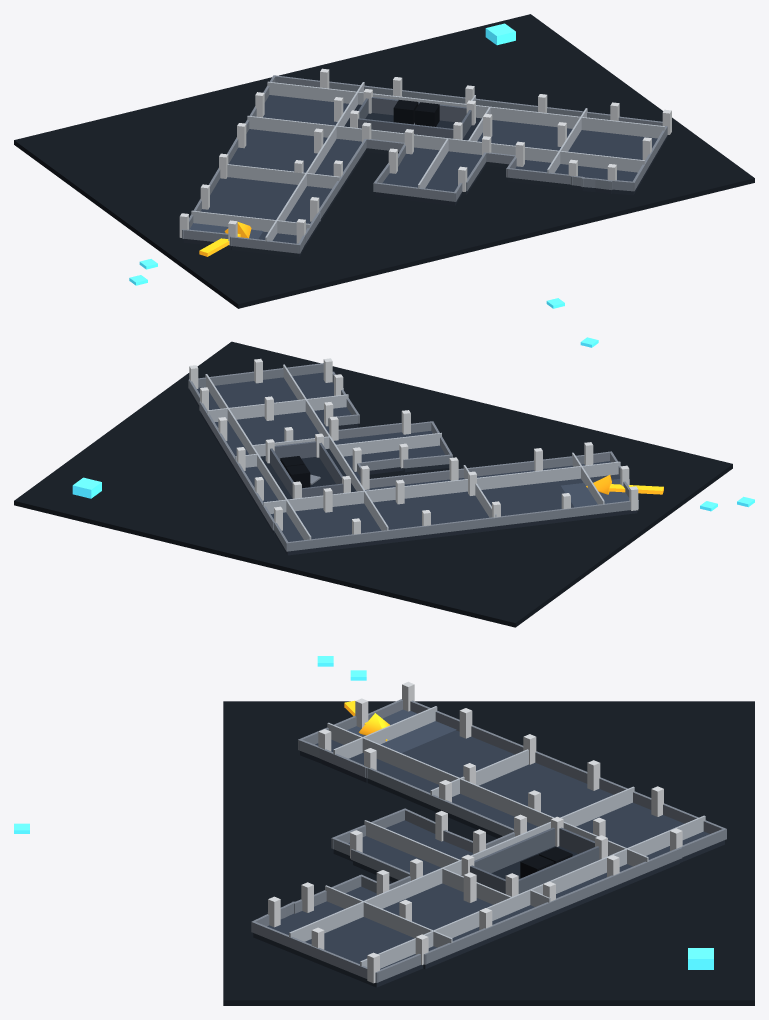
3 renders of one model, top to bottom at view 1: azimuth 30°, elevation 25°; view 2: azimuth 150°, elevation 25°; view 3: azimuth 270°, elevation 25°, orthographic. The views are drawn at different scales.
Parts seen in each view (by area): view 1: FireSight 140 New Montgomery St floor 15; view 2: FireSight 140 New Montgomery St floor 15; view 3: FireSight 140 New Montgomery St floor 15.
Part boxes in pixels (<box>): FireSight 140 New Montgomery St floor 15: <box>14,14,754,308</box>; FireSight 140 New Montgomery St floor 15: <box>14,337,754,627</box>; FireSight 140 New Montgomery St floor 15: <box>14,656,754,1005</box>.
Bounding box in the file's own units: 0.7889 × 0.043 × 0.7372.
